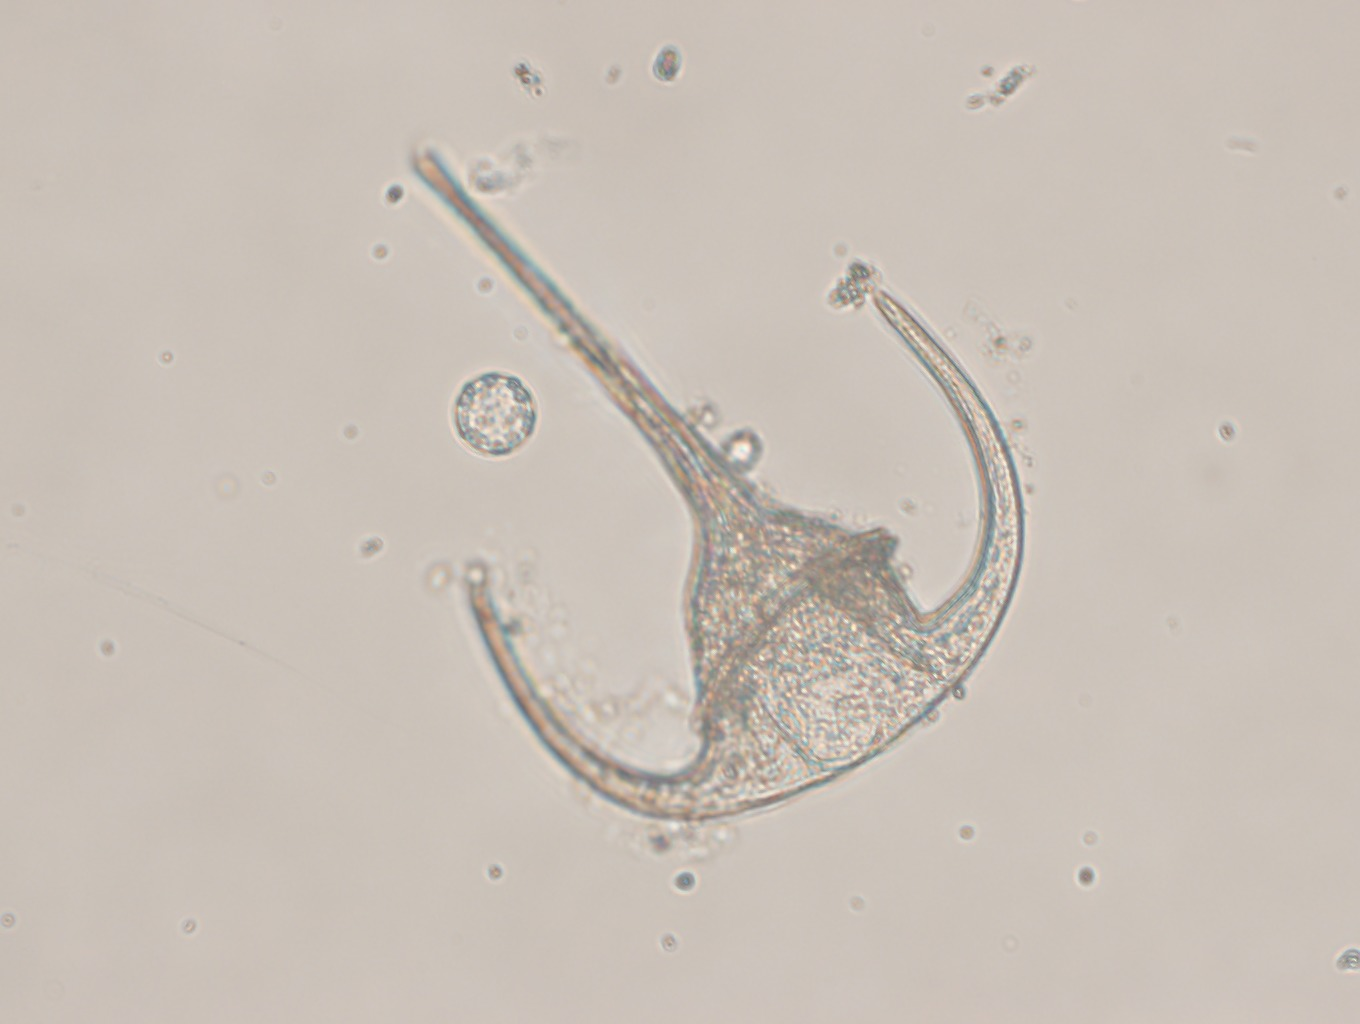ceratium tripos: (398, 141, 1027, 822)
